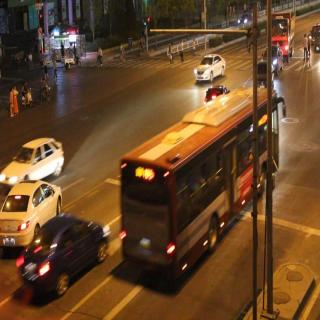BigCar: (119, 87, 280, 285), (269, 6, 296, 62)
Car: (24, 218, 114, 296), (0, 179, 62, 247), (1, 133, 67, 185), (191, 45, 232, 87), (251, 58, 274, 90), (264, 47, 284, 72)
